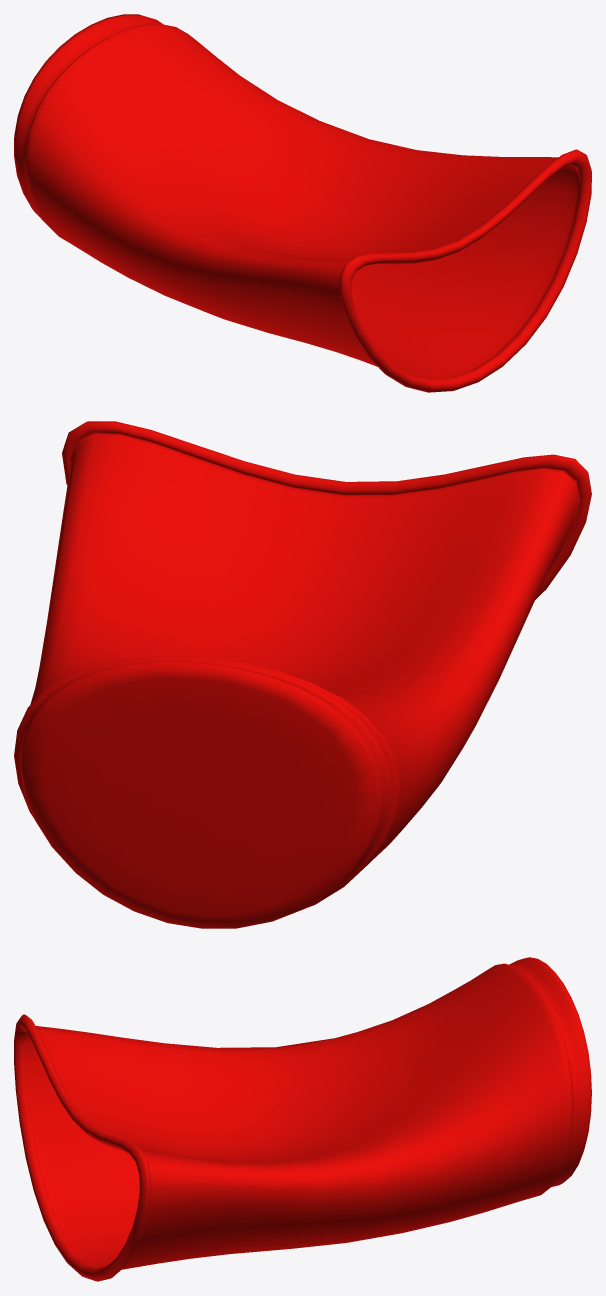
Rendered from cup.fbx.
3 views of the same model, one above another, from view 1: azimuth 30°, elevation 25°; view 2: azimuth 150°, elevation 25°; view 3: azimuth 270°, elevation 25° (orthographic). The views are drawn at different scales.
Parts seen in each view (by area): view 1: Circle.001; view 2: Circle.001; view 3: Circle.001.
Boxes of the visible parts, x1,y1,x2,y2 form: Circle.001: [14, 14, 591, 392]; Circle.001: [14, 421, 591, 928]; Circle.001: [14, 957, 591, 1281].
Bounding box in the file's own units: 246 × 128 × 302.
